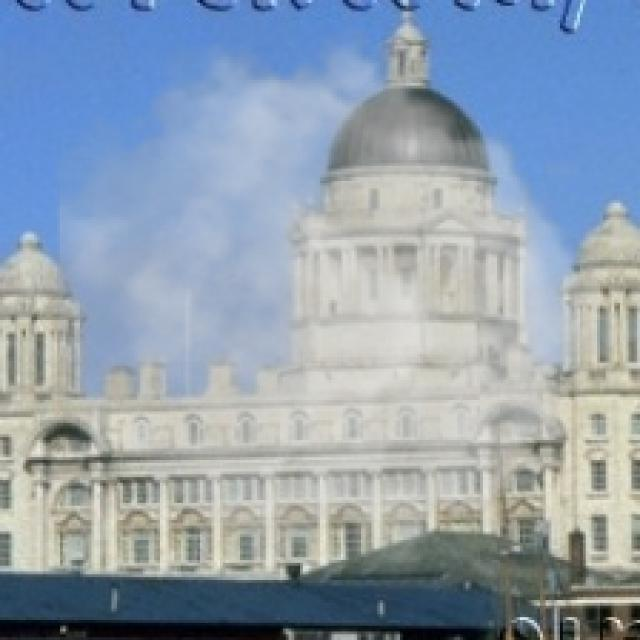smoke: (57, 23, 600, 577)
